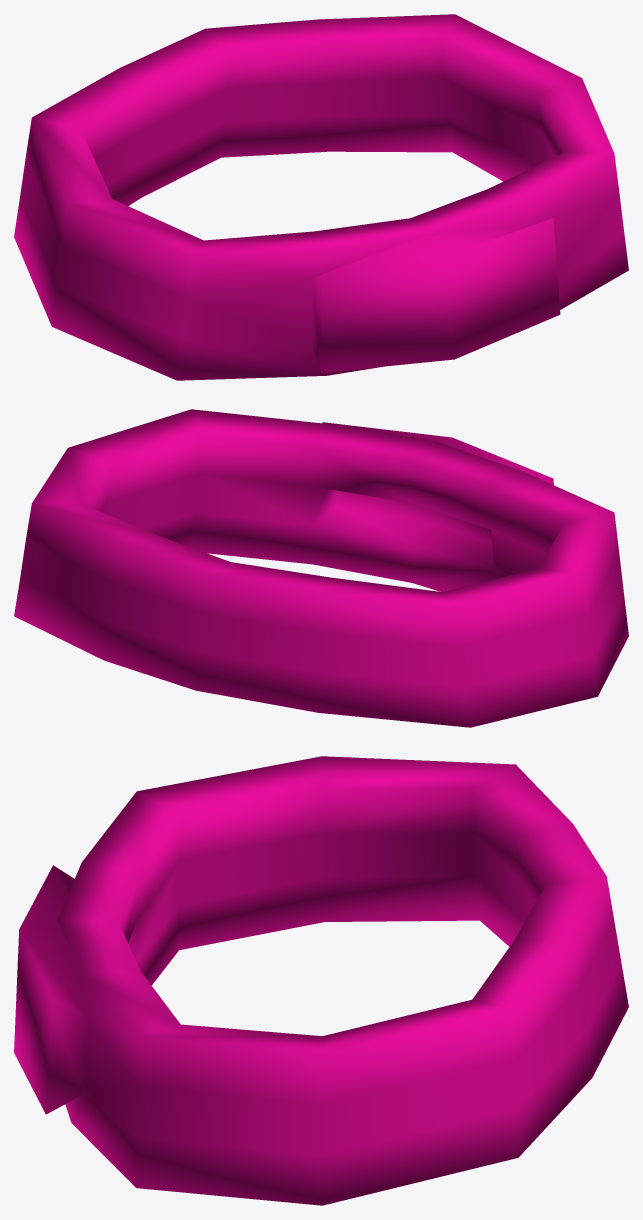
The model's file is belt.fbx.
The picture shows the model from 3 angles, top to bottom: view 1: azimuth 30°, elevation 25°; view 2: azimuth 150°, elevation 25°; view 3: azimuth 270°, elevation 25°; orthographic projection. The views are drawn at different scales.
Parts seen in each view (by area): view 1: Belt; view 2: Belt; view 3: Belt.
Boxes of the visible parts, x1,y1,x2,y2 form: Belt: (14, 14, 628, 380); Belt: (14, 409, 628, 727); Belt: (14, 756, 628, 1205).
Size of the model in its own units: 85.24 by 24.01 by 69.93.
